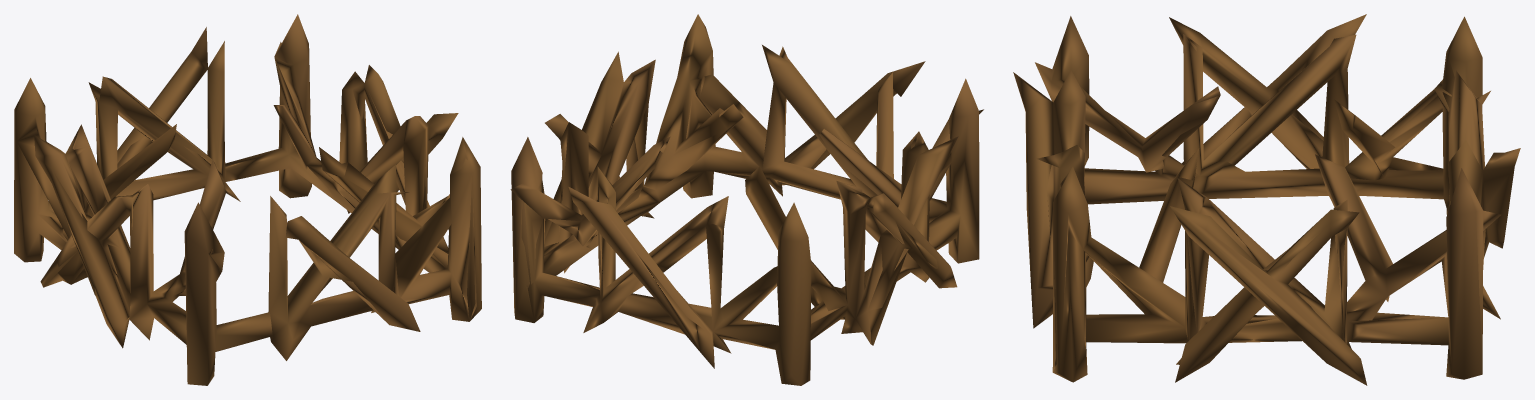
Rendered from gen3d-wooden-barricade-lod1.glb.
The picture shows the model from 3 angles, left to right: view 1: azimuth 30°, elevation 25°; view 2: azimuth 150°, elevation 25°; view 3: azimuth 270°, elevation 25°; orthographic projection. The views are drawn at different scales.
Parts seen in each view (by area): view 1: part_0; view 2: part_0; view 3: part_0.
Part boxes in pixels (left/top/right/bottom): part_0: left=14, top=14, right=481, bottom=385; part_0: left=510, top=14, right=983, bottom=385; part_0: left=1013, top=14, right=1520, bottom=385.
Size of the model in its own units: 2.03 by 0.9993 by 2.2.
